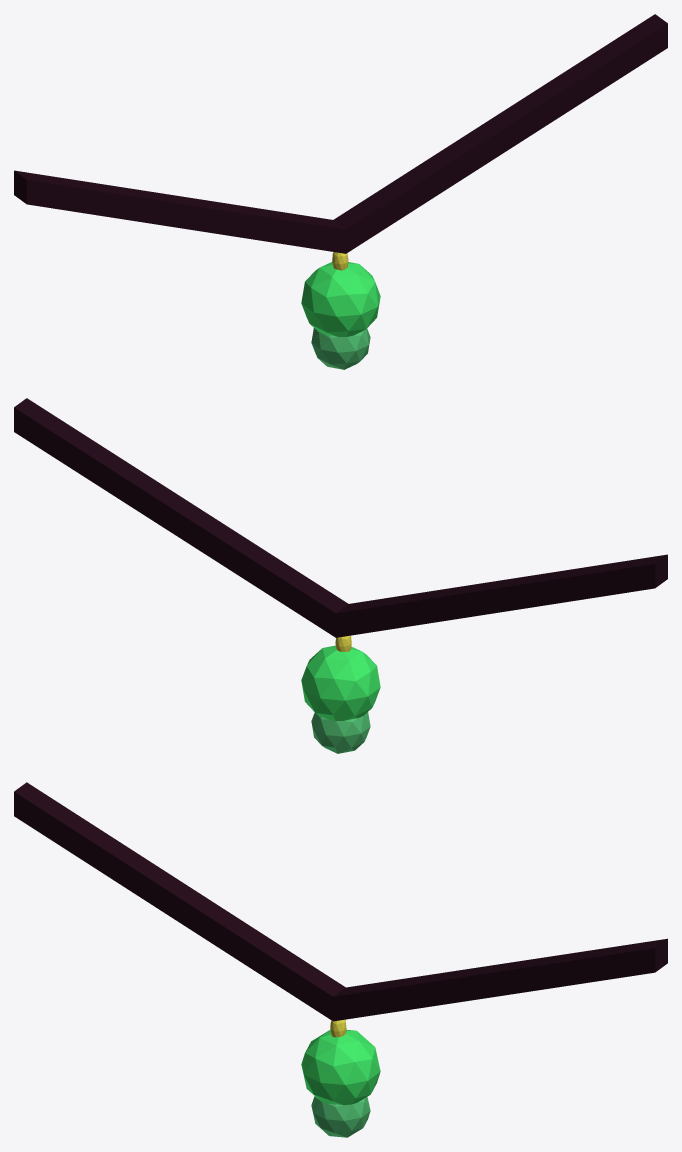
The model's file is luzinha3.fbx.
3 views of the same model, one above another, from view 1: azimuth 30°, elevation 25°; view 2: azimuth 150°, elevation 25°; view 3: azimuth 330°, elevation 25° (orthographic).
Parts seen in each view (by area): view 1: Icosphere.001; view 2: Icosphere.001; view 3: Icosphere.001.
Boxes of the visible parts, box(x1,y1,x2,y2) form: Icosphere.001: box(14, 14, 667, 369); Icosphere.001: box(14, 398, 667, 753); Icosphere.001: box(14, 782, 667, 1137).
Size of the model in its own units: 200 by 80.63 by 21.91.
